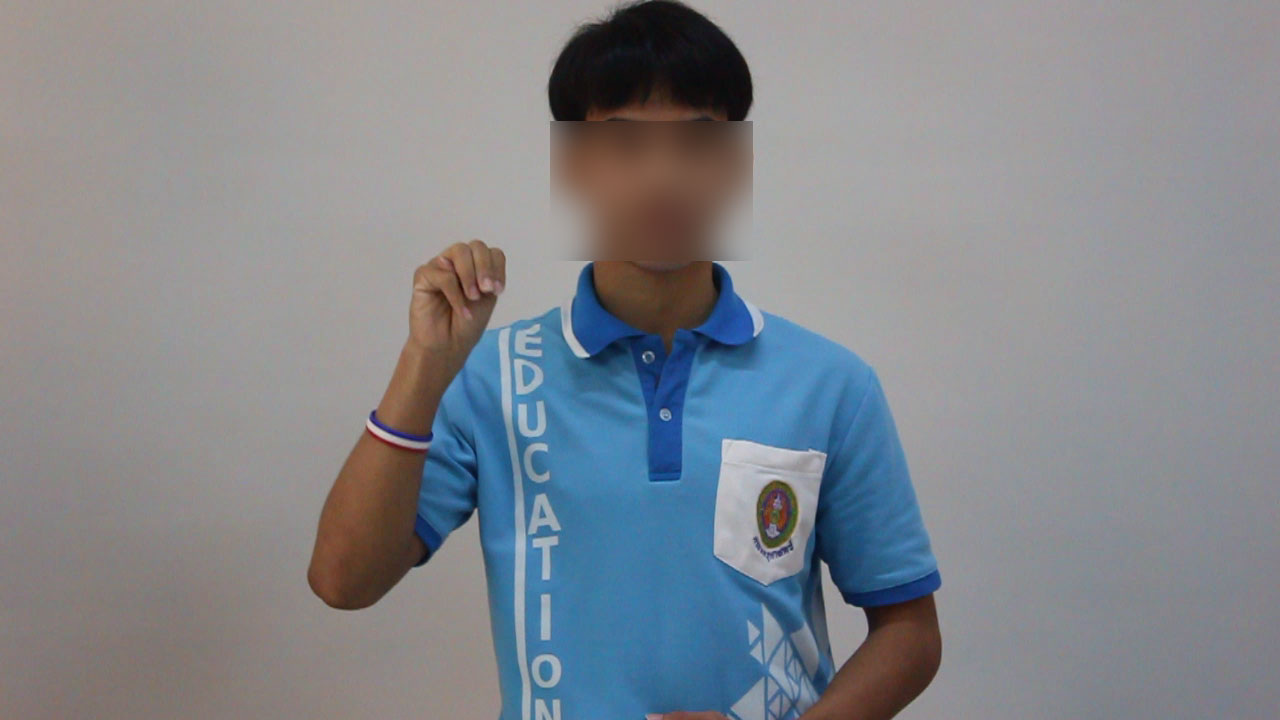mor: (402, 224, 510, 369)
